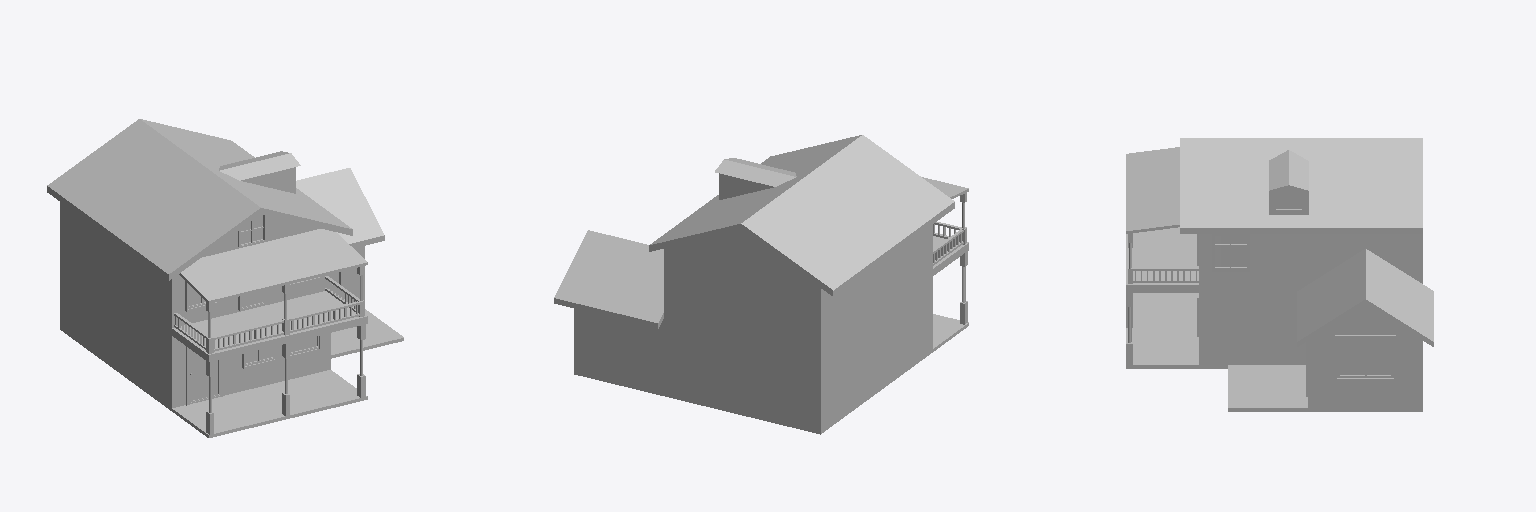
The model's file is house.obj.
3 views of the same model, side by side, from view 1: azimuth 30°, elevation 25°; view 2: azimuth 150°, elevation 25°; view 3: azimuth 270°, elevation 25° (orthographic).
Parts seen in each view (by area): view 1: house walls1, house small_roof, house floor, house poles, house walls, house wood, house smal_roof, house windows; view 2: house walls1, house walls, house smal_roof, house floor, house wood; view 3: house walls1, house walls, house floor, house small_roof, house poles, house smal_roof, house window, house window4, house wood.
Boxes of the visible parts, x1=… form: house walls1: x1=47, y1=119, x2=352, y2=410; house small_roof: x1=179, y1=229, x2=367, y2=303; house floor: x1=172, y1=309, x2=403, y2=437; house poles: x1=172, y1=291, x2=367, y2=361; house walls: x1=296, y1=168, x2=384, y2=302; house wood: x1=174, y1=276, x2=359, y2=351; house smal_roof: x1=219, y1=151, x2=300, y2=193; house windows: x1=238, y1=214, x2=265, y2=247; house walls1: x1=649, y1=135, x2=954, y2=434; house walls: x1=554, y1=230, x2=663, y2=395; house smal_roof: x1=715, y1=158, x2=796, y2=199; house floor: x1=933, y1=314, x2=968, y2=351; house wood: x1=933, y1=222, x2=963, y2=265; house walls1: x1=1180, y1=138, x2=1422, y2=368; house walls: x1=1297, y1=248, x2=1433, y2=411; house floor: x1=1126, y1=293, x2=1307, y2=411; house small_roof: x1=1126, y1=147, x2=1179, y2=233; house poles: x1=1126, y1=227, x2=1198, y2=292; house smal_roof: x1=1269, y1=150, x2=1308, y2=214; house window: x1=1335, y1=335, x2=1395, y2=380; house window4: x1=1212, y1=234, x2=1249, y2=271; house wood: x1=1133, y1=268, x2=1198, y2=282.
Size of the model in its own units: 816 by 544 by 793.